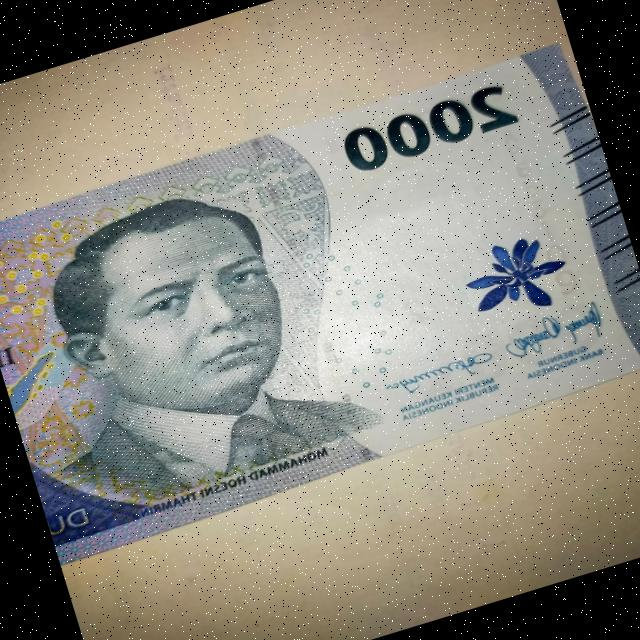2K: (0, 24, 640, 580)
